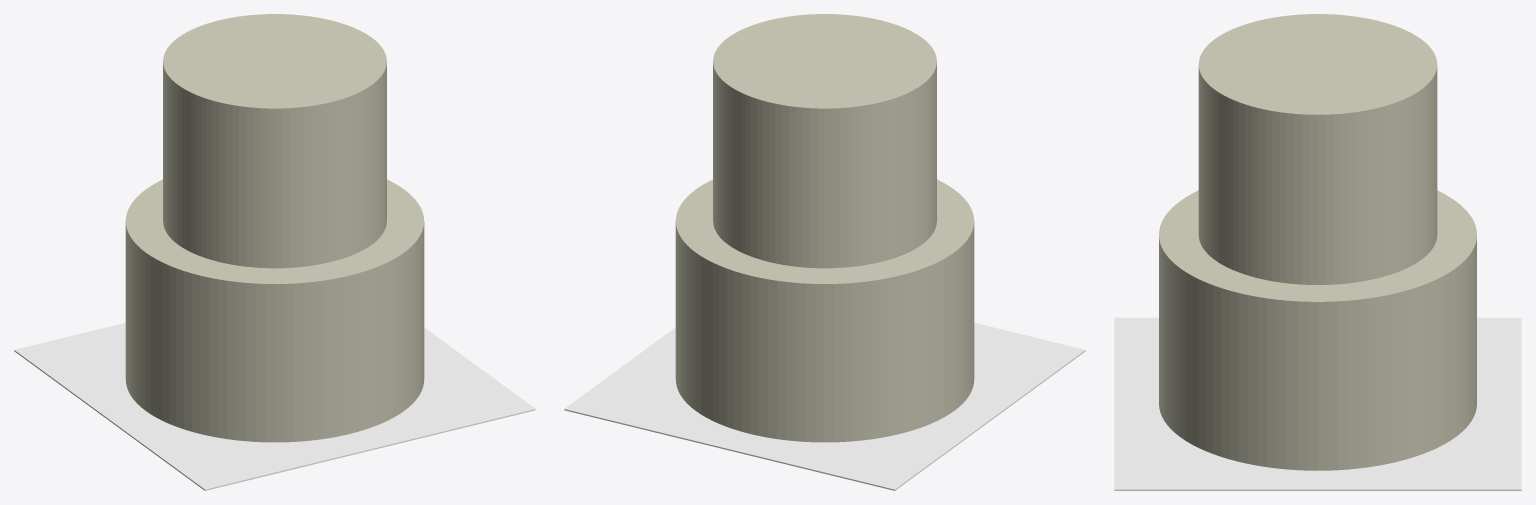
File: cake_tier2_8-6_layers3_v26.glb
The picture shows the model from 3 angles, left to right: view 1: azimuth 30°, elevation 25°; view 2: azimuth 150°, elevation 25°; view 3: azimuth 270°, elevation 25°; orthographic projection. The views are drawn at different scales.
Parts seen in each view (by area): view 1: Tier0, Tier1, Board; view 2: Tier0, Tier1, Board; view 3: Tier0, Tier1, Board.
Part boxes in pixels (bbox=[...]): Tier0: bbox=[125, 179, 424, 442]; Tier1: bbox=[163, 14, 386, 268]; Board: bbox=[14, 322, 535, 490]; Tier0: bbox=[675, 179, 974, 442]; Tier1: bbox=[713, 14, 936, 268]; Board: bbox=[564, 322, 1085, 490]; Tier0: bbox=[1159, 190, 1476, 470]; Tier1: bbox=[1198, 14, 1437, 284]; Board: bbox=[1114, 317, 1521, 490].
Bounding box in the file's own units: 0.26 × 0.24 × 0.26.
